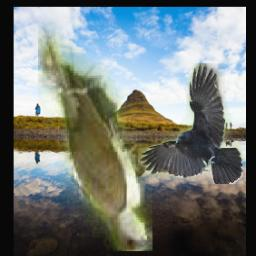Crow: (139, 63, 243, 184)
Cuckoo: (38, 8, 153, 251)
